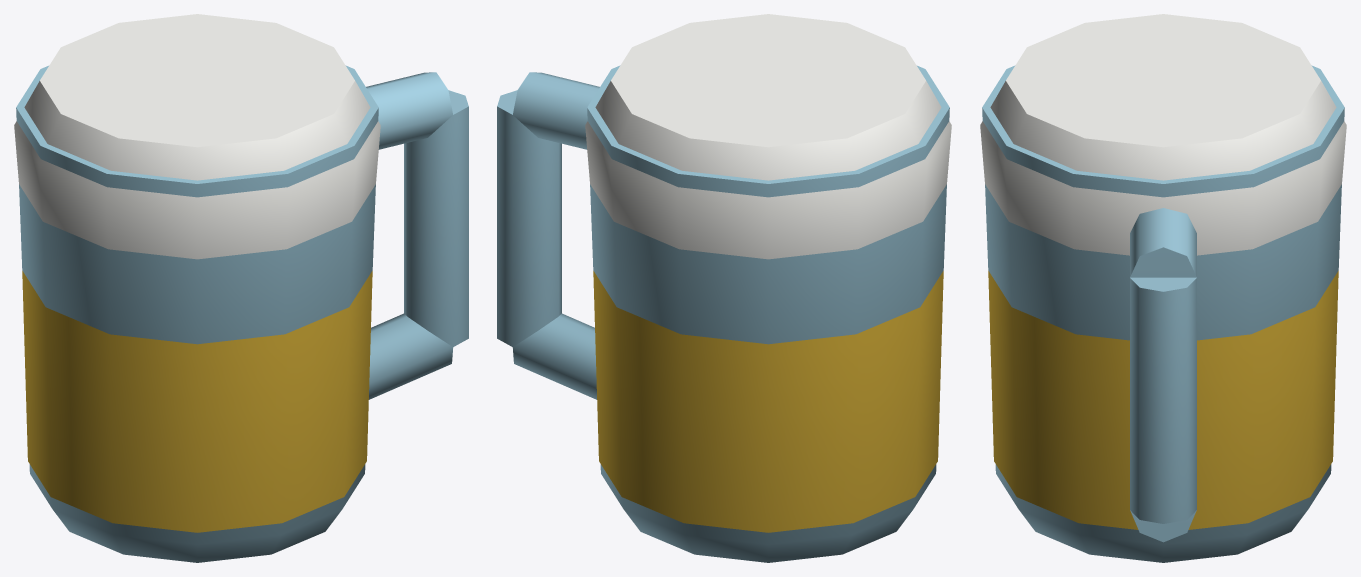
File: SM_Pitcher_Beer_01.glb
3 renders of one model, left to right at view 1: azimuth 30°, elevation 25°; view 2: azimuth 150°, elevation 25°; view 3: azimuth 270°, elevation 25°, orthographic.
Visible parts, largest first — view 1: SM_Pitcher_Beer_01; view 2: SM_Pitcher_Beer_01; view 3: SM_Pitcher_Beer_01.
Boxes of the visible parts, x1,y1,x2,y2 form: SM_Pitcher_Beer_01: (14, 14, 468, 562); SM_Pitcher_Beer_01: (497, 14, 951, 562); SM_Pitcher_Beer_01: (980, 14, 1346, 562).
Bounding box in the file's own units: 0.25 × 0.235 × 0.186.
Materials: 1 (1 with a texture image).
